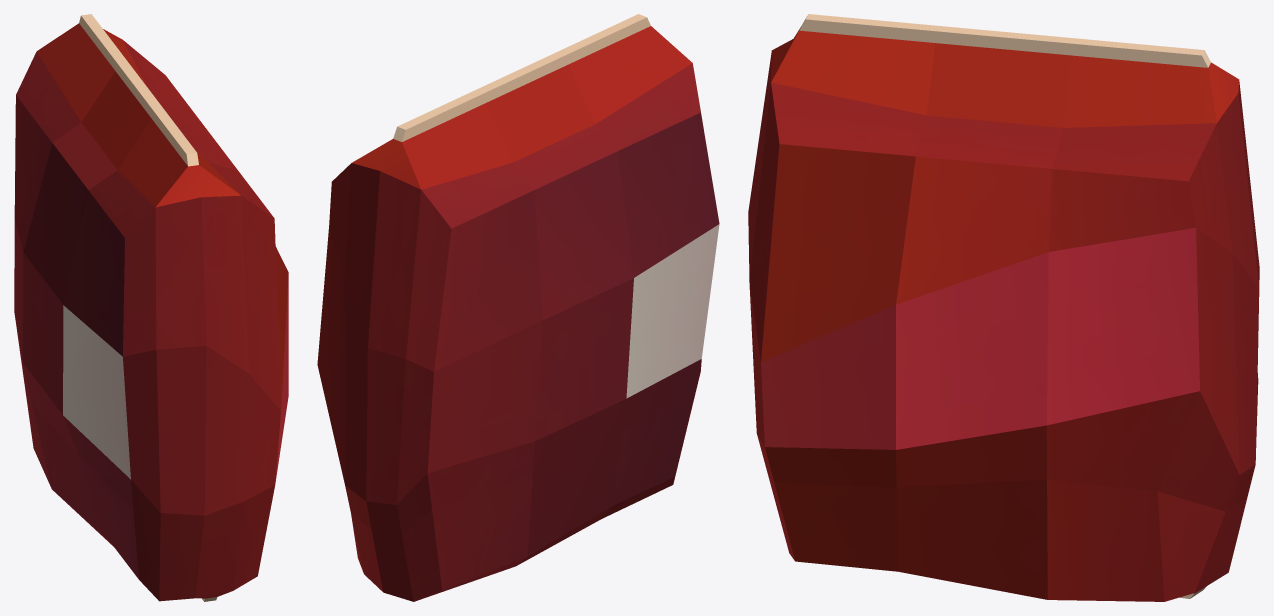
File: Garden_PottingSoil02.fbx
3 renders of one model, left to right at view 1: azimuth 30°, elevation 25°; view 2: azimuth 150°, elevation 25°; view 3: azimuth 270°, elevation 25°, orthographic. The views are drawn at different scales.
Visible parts, largest first — view 1: PottingSoilUp; view 2: PottingSoilUp; view 3: PottingSoilUp.
Part boxes in pixels (x1,y1,x2,y2): PottingSoilUp: (14, 14, 288, 601); PottingSoilUp: (317, 14, 719, 601); PottingSoilUp: (748, 14, 1259, 601).
Size of the model in its own units: 19.31 by 37.09 by 32.39.
